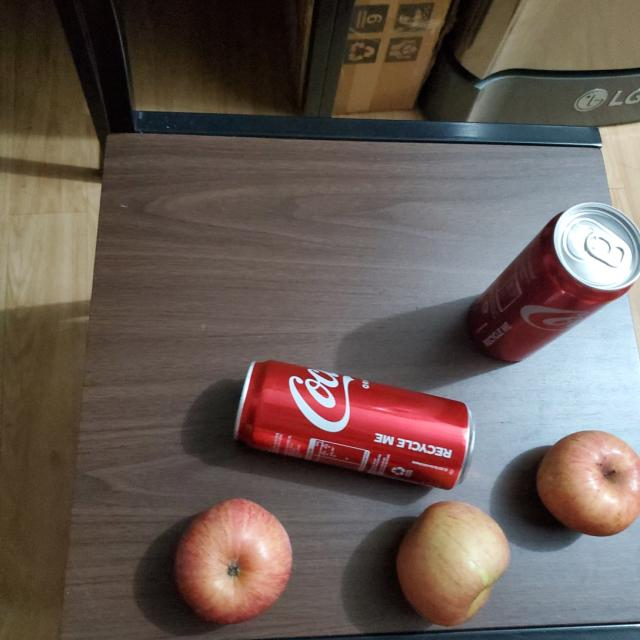apple: (172, 496, 294, 625), (393, 502, 511, 632), (535, 432, 640, 536)
coke: (232, 356, 472, 487), (473, 202, 640, 364)
